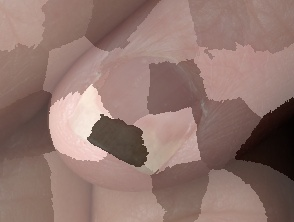Nail_psoriasis: (33, 0, 252, 213)
